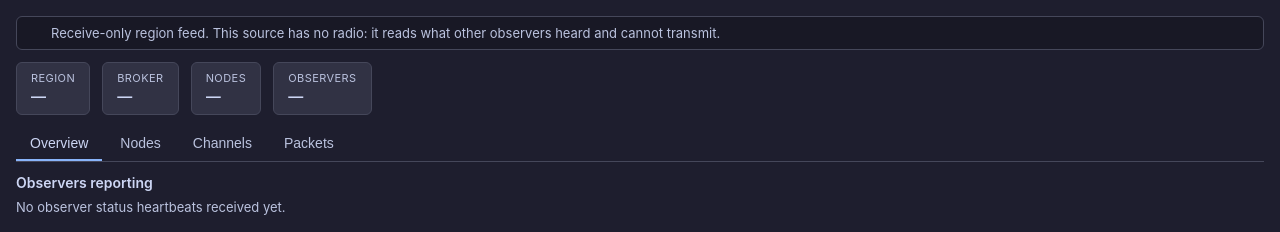
Test: MeshCoreIngestView (#5096) › loads channel messages only once the Channels tab is opened
What coordinates should you click on to do the following:
click the button "Channels"
I would click on:
 (222, 144)
Its box is [179,127,266,161].
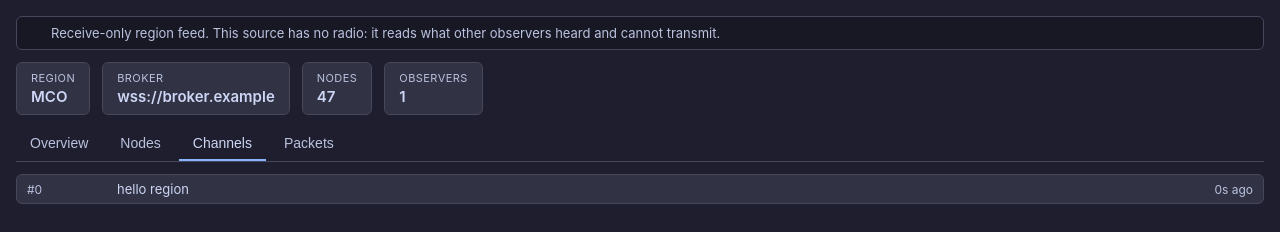
Now the text "hello region" is shown, box [117,181,189,197]
